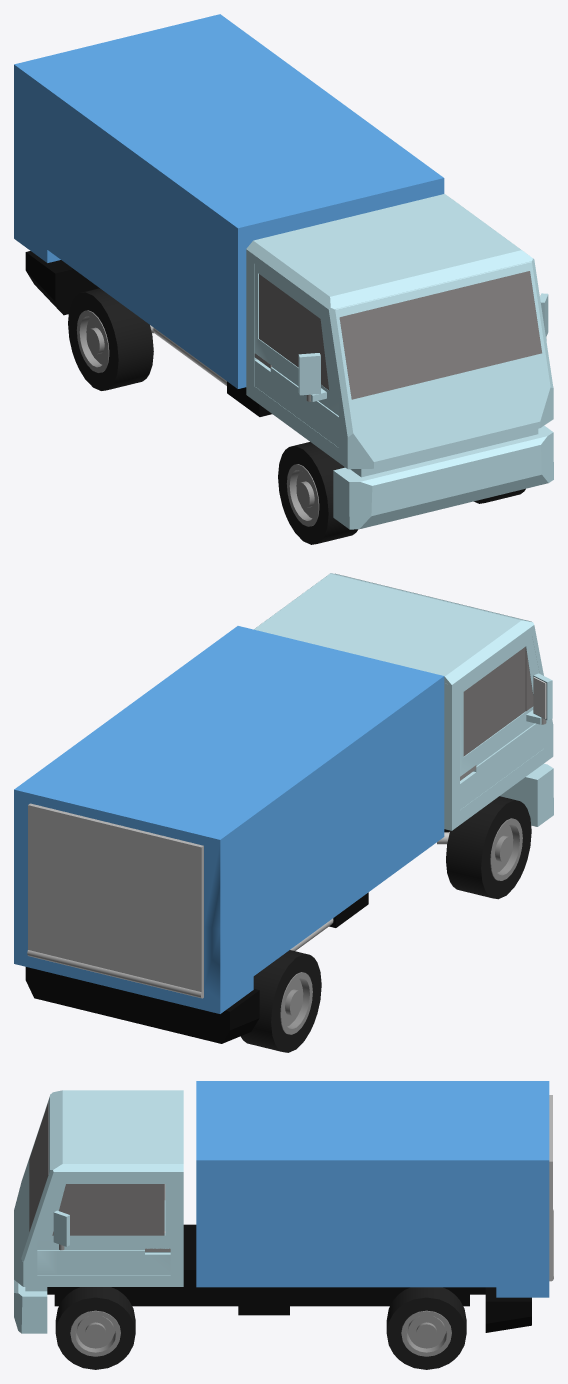
File: truck_coloured_combined.fbx
The picture shows the model from 3 angles, top to bottom: view 1: azimuth 30°, elevation 25°; view 2: azimuth 150°, elevation 25°; view 3: azimuth 270°, elevation 25°; orthographic projection. The views are drawn at different scales.
Parts seen in each view (by area): view 1: Union22; view 2: Union22; view 3: Union22.
Part boxes in pixels (x1,y1,x2,y2): Union22: [14, 14, 553, 544]; Union22: [14, 573, 553, 1052]; Union22: [14, 1081, 553, 1369].
Bounding box in the file's own units: 386 × 391 × 911.
